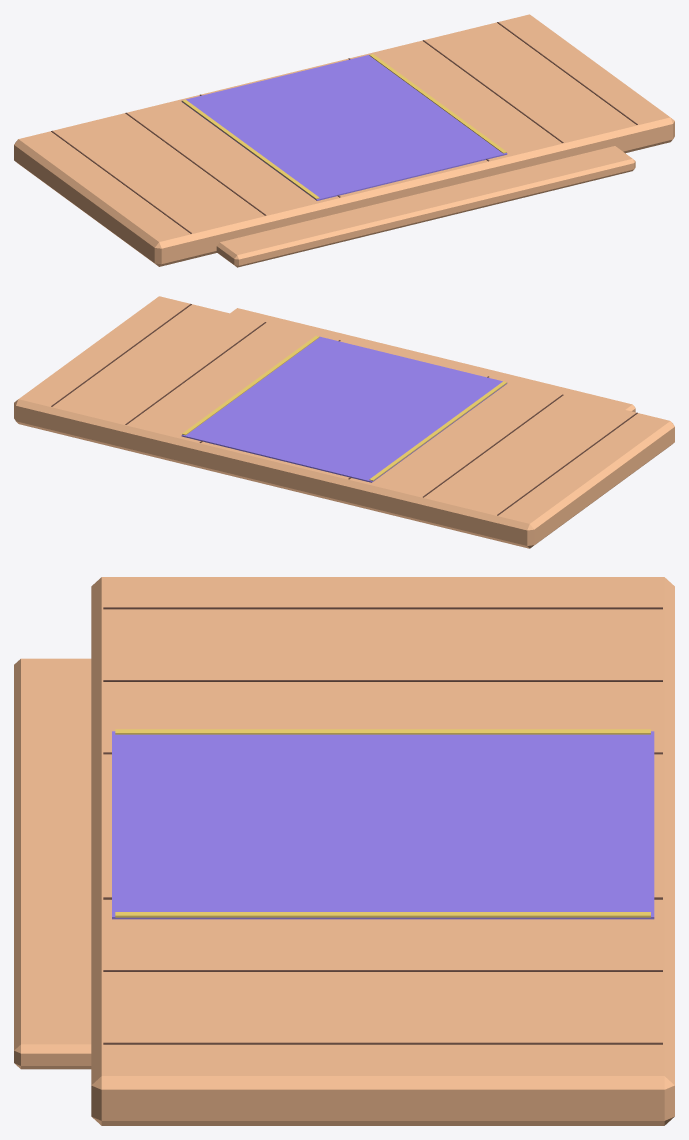
3 views of the same model, one above another, from view 1: azimuth 30°, elevation 25°; view 2: azimuth 150°, elevation 25°; view 3: azimuth 270°, elevation 25° (orthographic). The views are drawn at different scales.
Visible parts, largest first — view 1: Sanctuary platform, Stage carpet, Entry step, Carpet border, Carpet border.001; view 2: Sanctuary platform, Stage carpet, Entry step, Carpet border, Carpet border.001; view 3: Sanctuary platform, Stage carpet, Entry step, Carpet border, Carpet border.001, Wood seam, Wood seam.005, Wood seam.001, Wood seam.004.
Part boxes in pixels (x1,y1,x2,y2): Sanctuary platform: [14, 14, 674, 266]; Stage carpet: [181, 55, 507, 200]; Entry step: [216, 146, 635, 267]; Carpet border: [182, 99, 319, 198]; Carpet border.001: [369, 54, 506, 153]; Sanctuary platform: [14, 296, 674, 548]; Stage carpet: [181, 336, 507, 482]; Entry step: [230, 308, 635, 412]; Carpet border: [369, 381, 506, 480]; Carpet border.001: [182, 336, 319, 435]; Sanctuary platform: [91, 577, 674, 1125]; Stage carpet: [112, 731, 654, 919]; Entry step: [14, 658, 91, 1069]; Carpet border: [115, 729, 650, 734]; Carpet border.001: [115, 912, 650, 917]; Wood seam: [103, 607, 662, 609]; Wood seam.005: [103, 1042, 662, 1044]; Wood seam.001: [103, 680, 662, 681]; Wood seam.004: [103, 970, 662, 971].
Bounding box in the file's own units: 350 × 17.3 × 193.
